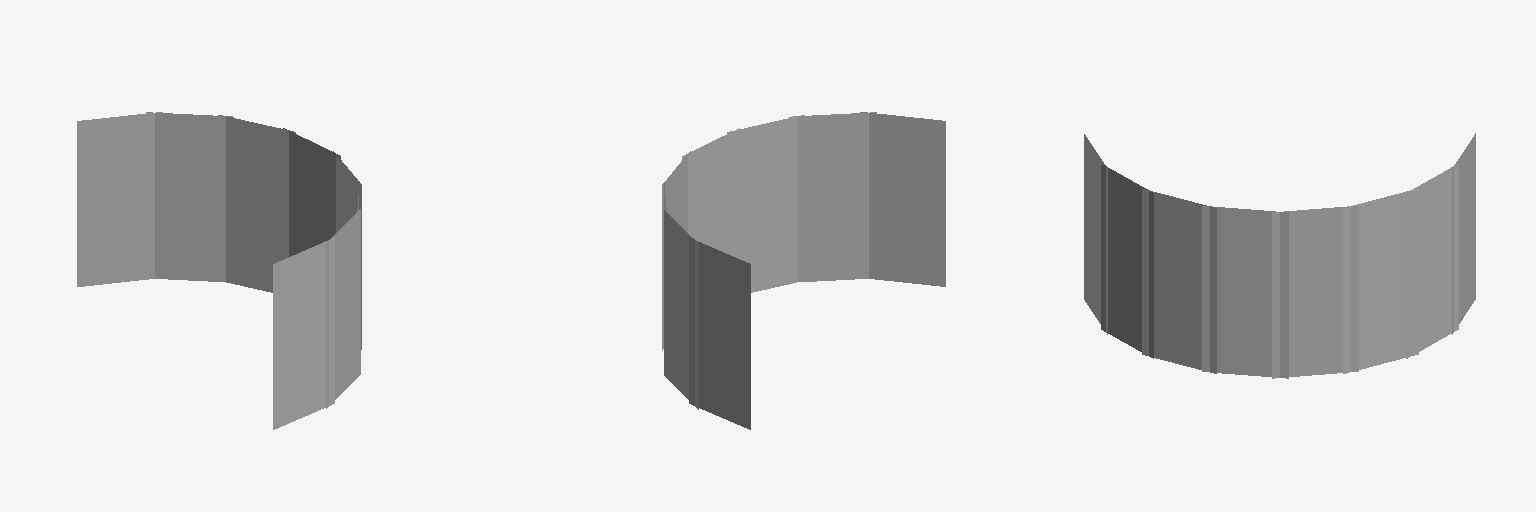
Rendered from Screen.obj.
3 renders of one model, left to right at view 1: azimuth 30°, elevation 25°; view 2: azimuth 150°, elevation 25°; view 3: azimuth 270°, elevation 25°, orthographic.
Visible parts, largest first — view 1: Cube.007, Cube.006, Cube.005, Cube, Cube.004, Cube.001, Cube.003; view 2: Cube, Cube.001, Cube.002, Cube.007, Cube.006, Cube.003, Cube.004; view 3: Cube.003, Cube.004, Cube.005, Cube.002, Cube.001, Cube.006, Cube, Cube.007.
Part boxes in pixels (left/top/right/bottom): Cube.007: left=77, top=112, right=162, bottom=286; Cube.006: left=146, top=112, right=233, bottom=281; Cube.005: left=218, top=115, right=295, bottom=292; Cube: left=273, top=238, right=334, bottom=429; Cube.004: left=283, top=128, right=340, bottom=256; Cube.001: left=326, top=209, right=360, bottom=408; Cube.003: left=333, top=151, right=361, bottom=349; Cube: left=860, top=112, right=945, bottom=286; Cube.001: left=789, top=112, right=876, bottom=281; Cube.002: left=727, top=115, right=804, bottom=292; Cube.007: left=689, top=238, right=750, bottom=429; Cube.006: left=664, top=210, right=698, bottom=409; Cube.003: left=682, top=128, right=739, bottom=256; Cube.004: left=662, top=151, right=690, bottom=350; Cube.003: left=1202, top=206, right=1288, bottom=378; Cube.004: left=1272, top=206, right=1358, bottom=378; Cube.005: left=1343, top=188, right=1418, bottom=373; Cube.002: left=1142, top=189, right=1216, bottom=373; Cube.001: left=1101, top=164, right=1153, bottom=358; Cube.006: left=1406, top=163, right=1458, bottom=358; Cube: left=1084, top=134, right=1107, bottom=334; Cube.007: left=1452, top=133, right=1475, bottom=334.
Size of the model in its own units: 2.96 by 2.89 by 6.17.